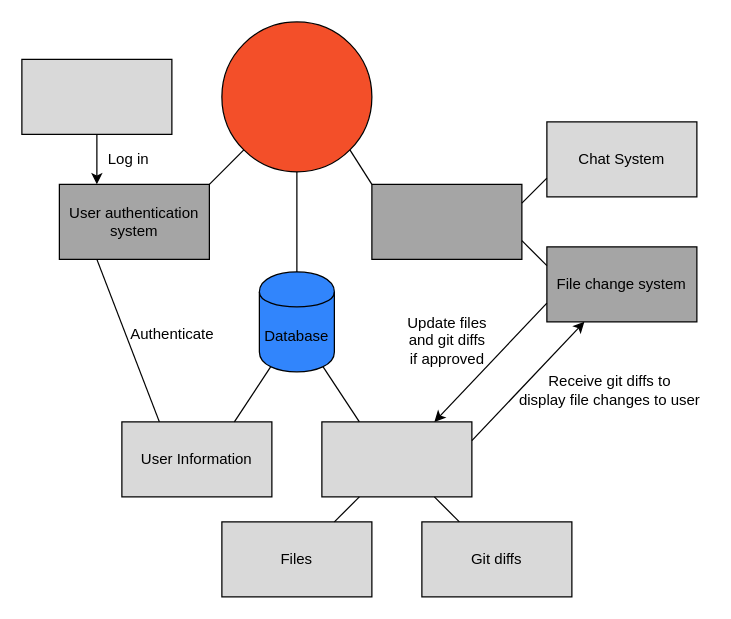
Some shapes in this 731 by 619 pixel diagram are drawn without their labels. Each missing label, with the centre of its shape:
Git Going code review software: point (296, 96)
Notification system: point (446, 221)
Projects: point (396, 459)
Users: point (96, 96)
